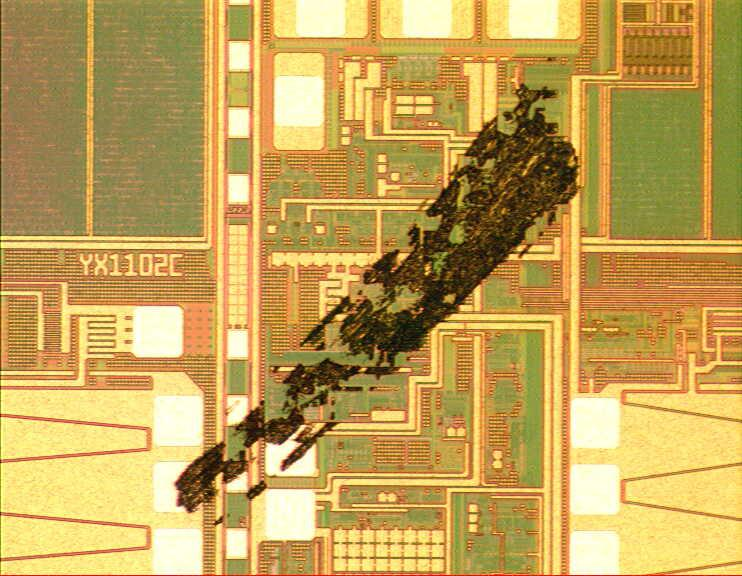SCRATCH: (174, 84, 588, 531)
